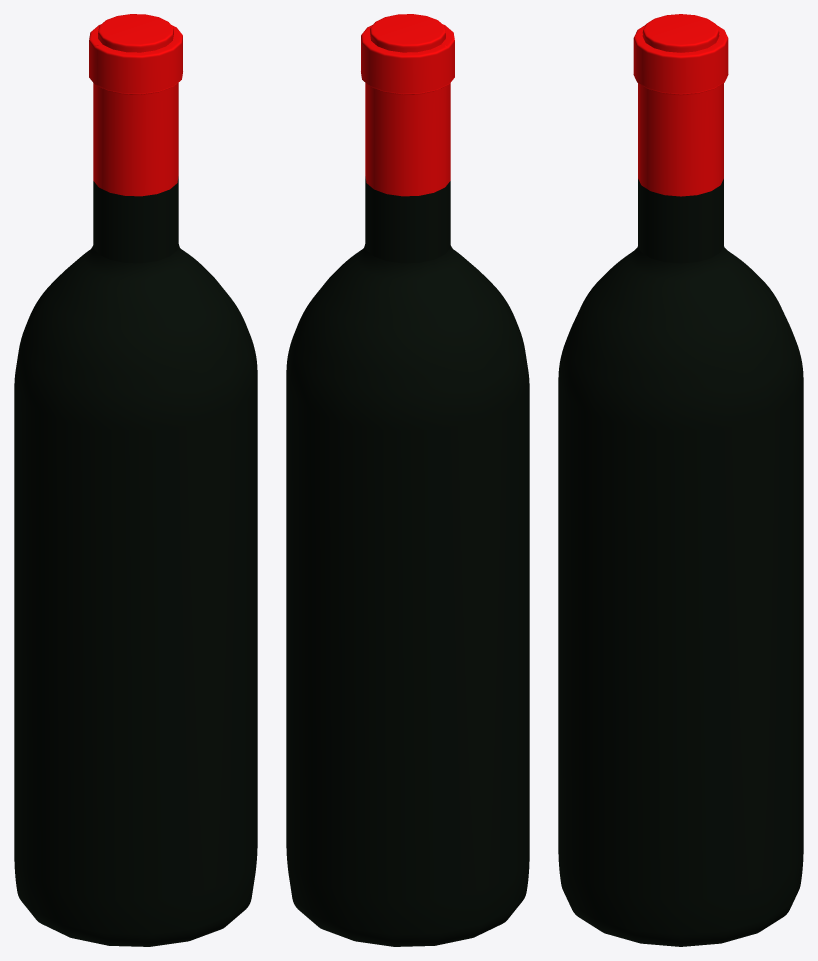
File: peta.fbx
The picture shows the model from 3 angles, left to right: view 1: azimuth 30°, elevation 25°; view 2: azimuth 150°, elevation 25°; view 3: azimuth 270°, elevation 25°; orthographic projection.
Visible parts, largest first — view 1: WineBottle; view 2: WineBottle; view 3: WineBottle.
Part boxes in pixels (bbox=[...]): WineBottle: bbox=[14, 14, 257, 946]; WineBottle: bbox=[286, 14, 529, 946]; WineBottle: bbox=[558, 14, 803, 946].
Size of the model in its own units: 9.16 by 36.32 by 9.16.
